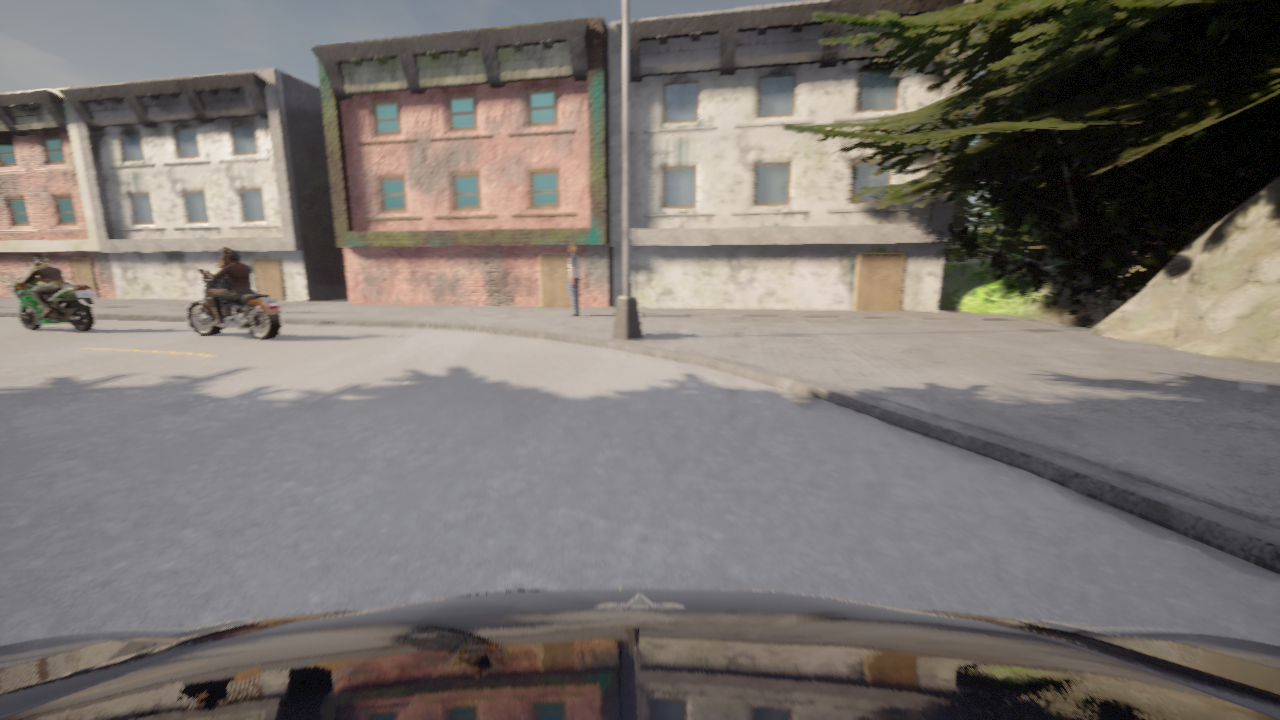cyclist: (0, 588, 1279, 719), (186, 270, 282, 340), (0, 276, 96, 331)
pedestrian: (568, 244, 580, 316), (218, 245, 231, 287)
